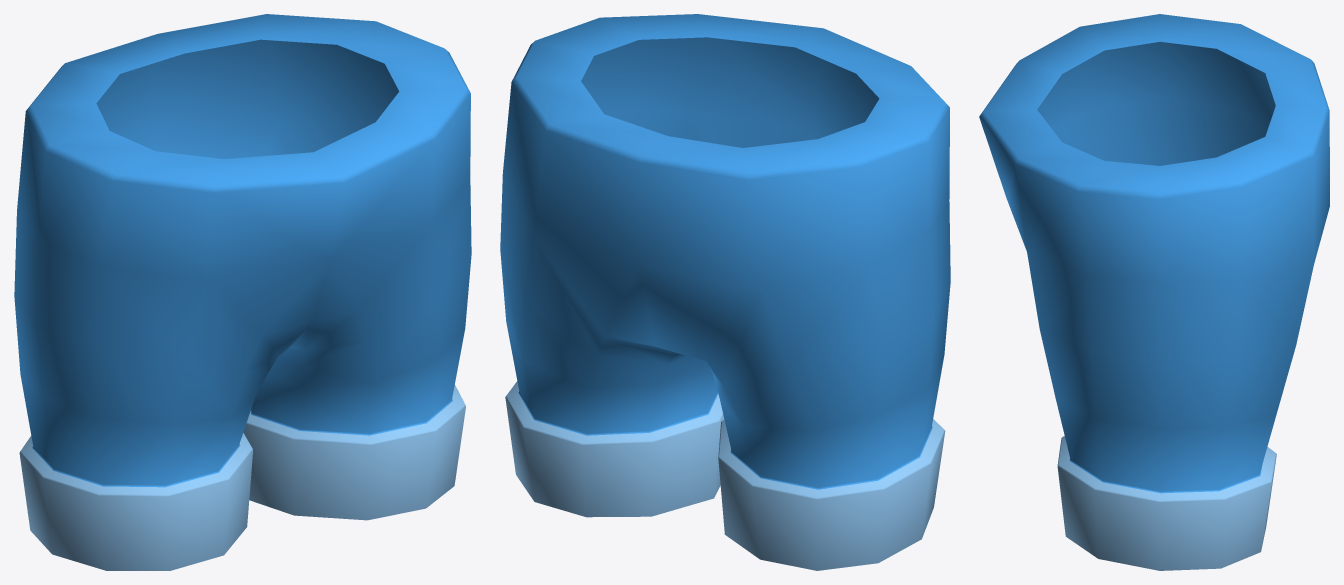
Rendered from Pants_Blue_002.glb.
3 renders of one model, left to right at view 1: azimuth 30°, elevation 25°; view 2: azimuth 150°, elevation 25°; view 3: azimuth 270°, elevation 25°, orthographic. The views are drawn at different scales.
Visible parts, largest first — view 1: Pants_Blue_002; view 2: Pants_Blue_002; view 3: Pants_Blue_002.
Boxes of the visible parts, x1=… form: Pants_Blue_002: x1=14, y1=14, x2=471, y2=570; Pants_Blue_002: x1=500, y1=14, x2=950, y2=570; Pants_Blue_002: x1=979, y1=14, x2=1329, y2=570.
Size of the model in its own units: 0.4529 by 0.4315 by 0.3561.
1 material, 1 textured.
